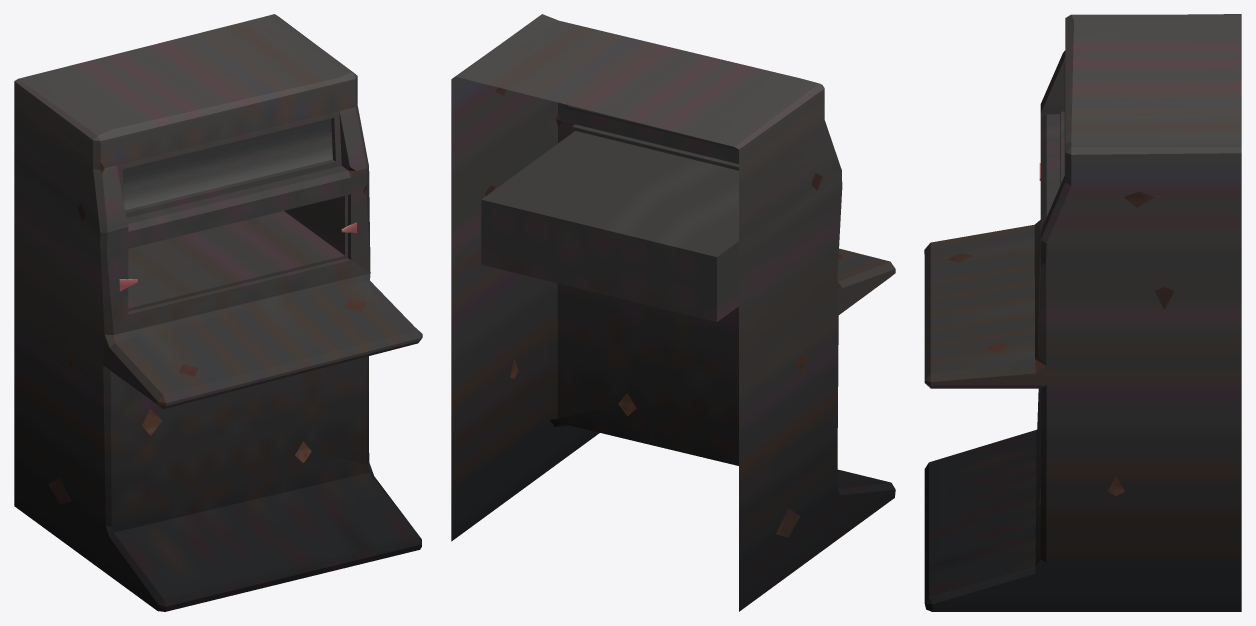
File: SlotMachine_Mdl.fbx
3 renders of one model, left to right at view 1: azimuth 30°, elevation 25°; view 2: azimuth 150°, elevation 25°; view 3: azimuth 270°, elevation 25°, orthographic. The views are drawn at different scales.
Parts seen in each view (by area): view 1: SlotMachineMain_Mdl; view 2: SlotMachineMain_Mdl; view 3: SlotMachineMain_Mdl.
Part boxes in pixels (left/top/right/bottom): SlotMachineMain_Mdl: left=14, top=14, right=422, bottom=611; SlotMachineMain_Mdl: left=451, top=14, right=895, bottom=611; SlotMachineMain_Mdl: left=924, top=14, right=1241, bottom=611.
Size of the model in its own units: 1.24 by 1.89 by 1.17.
Materials: 1 (1 with a texture image).
